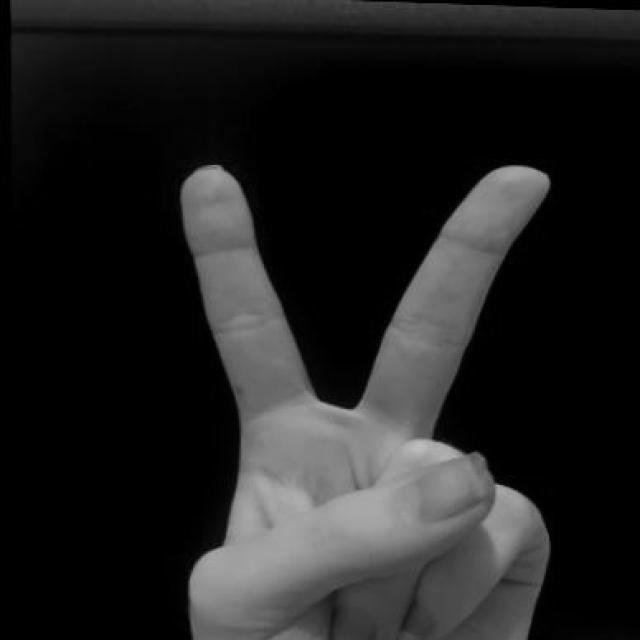V: (155, 149, 572, 639)
